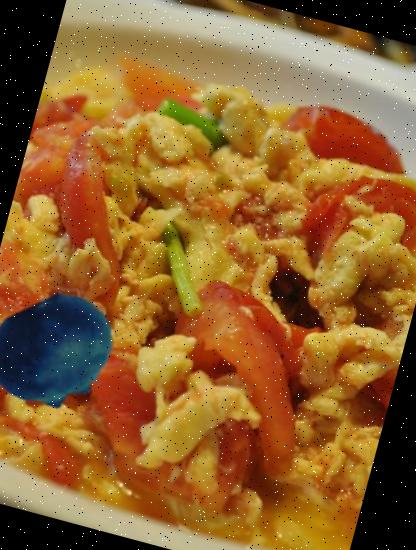Huckleberry: (0, 275, 131, 431)
